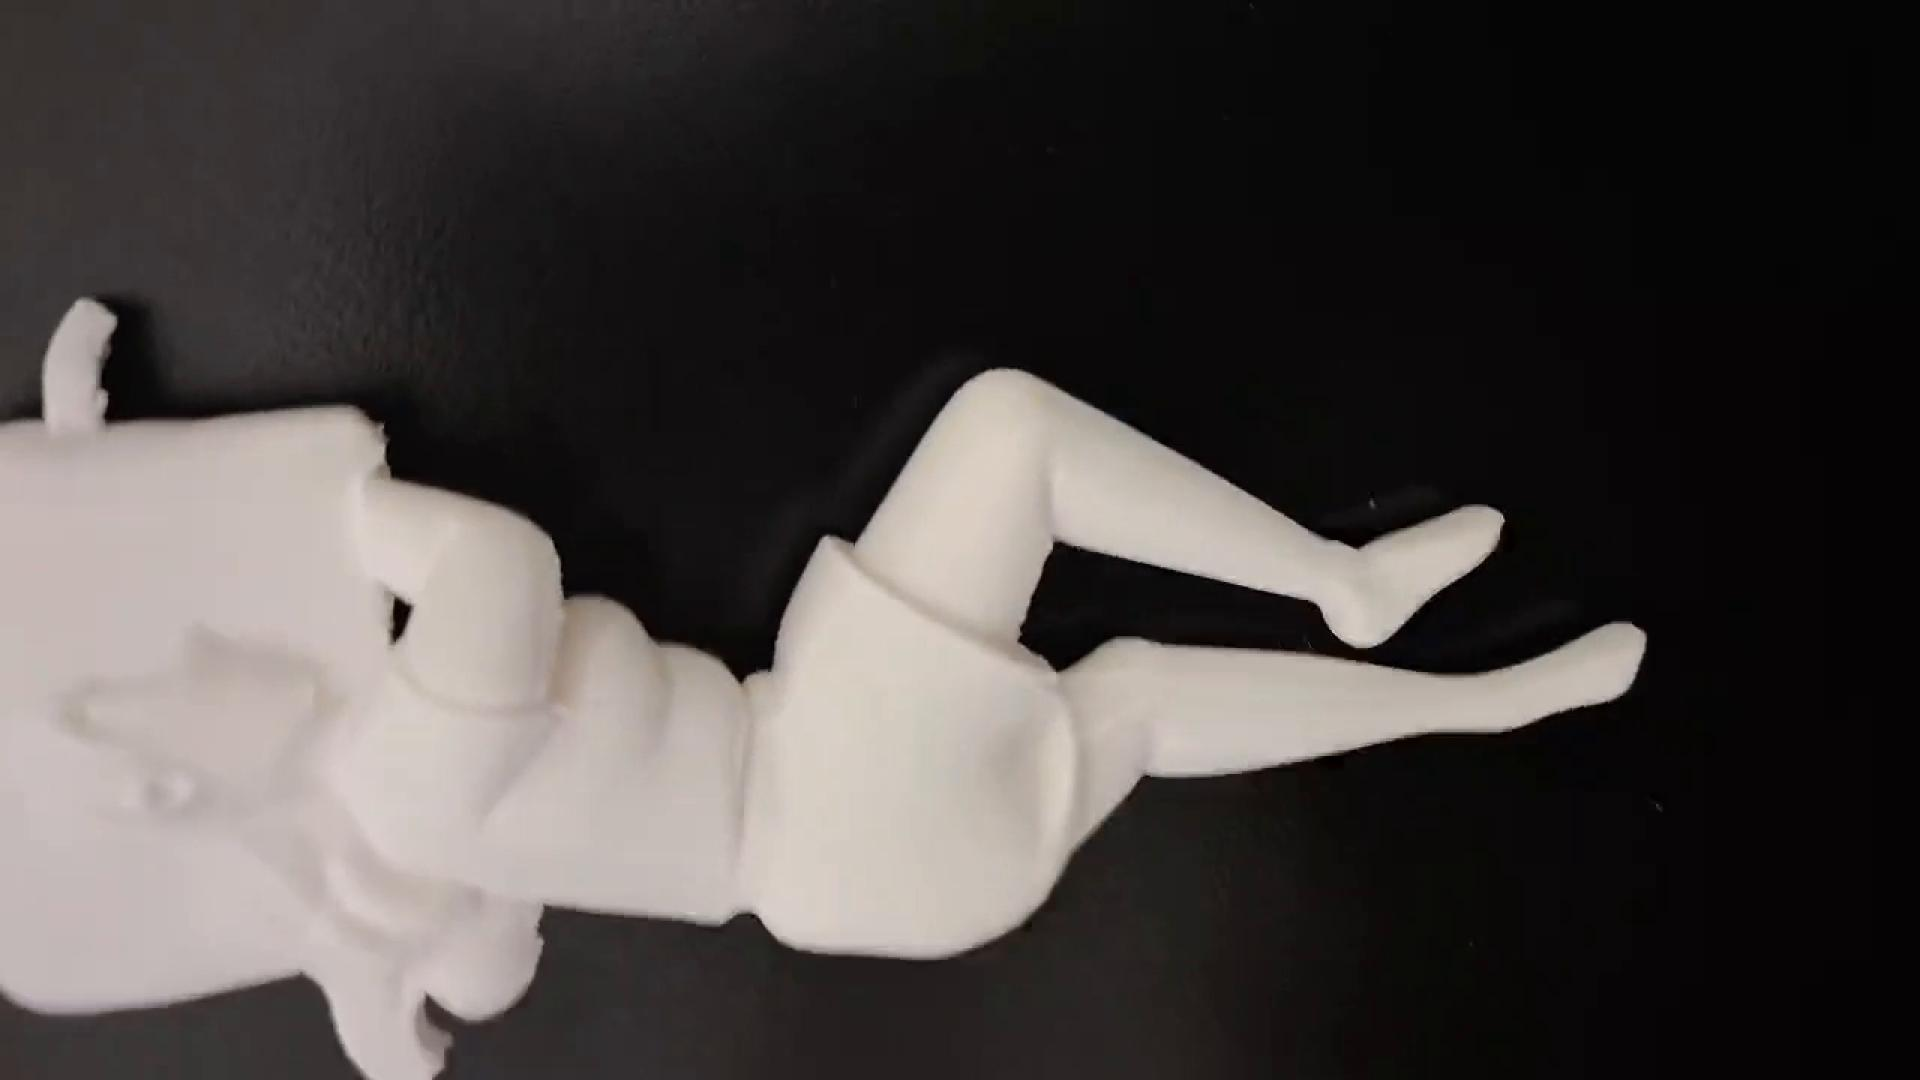Good-style: (0, 287, 1658, 1080)
